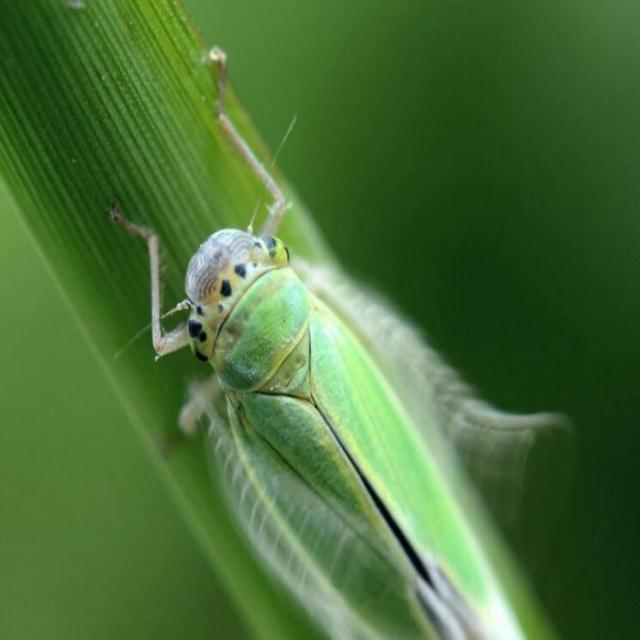Yechan: (131, 196, 541, 633)
